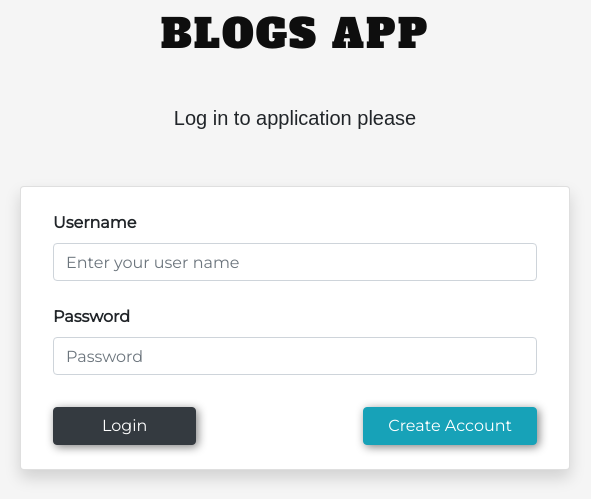
Test case: Blog app › Login › Can not be logged in without credentials
This screenshot has width=591, height=499.
Click the button "Login" at (125, 426), box [53,407,196,445]
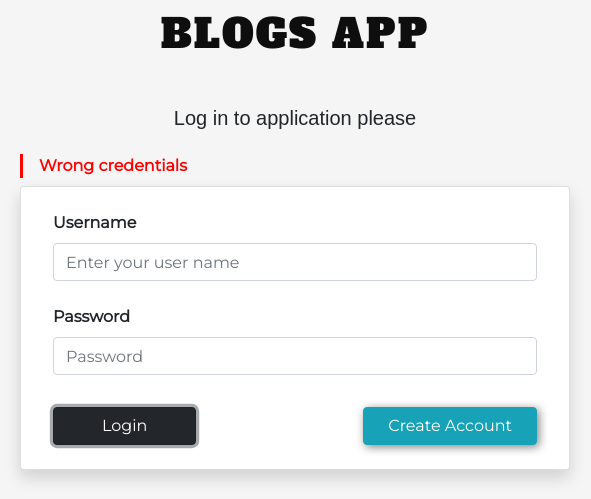
Now the text "Wrong credentials" is shown, box [20,154,570,178]
